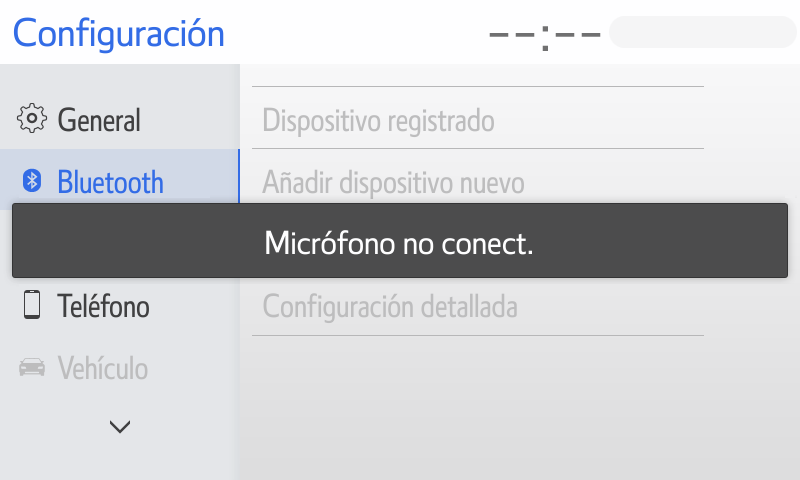touchPart: (11, 101, 162, 138), (17, 284, 157, 323), (104, 409, 134, 450)
untouchPart: (251, 81, 709, 155), (249, 272, 707, 343), (249, 146, 711, 206), (1, 144, 242, 210), (486, 12, 797, 53), (11, 14, 229, 54), (17, 352, 155, 387)
